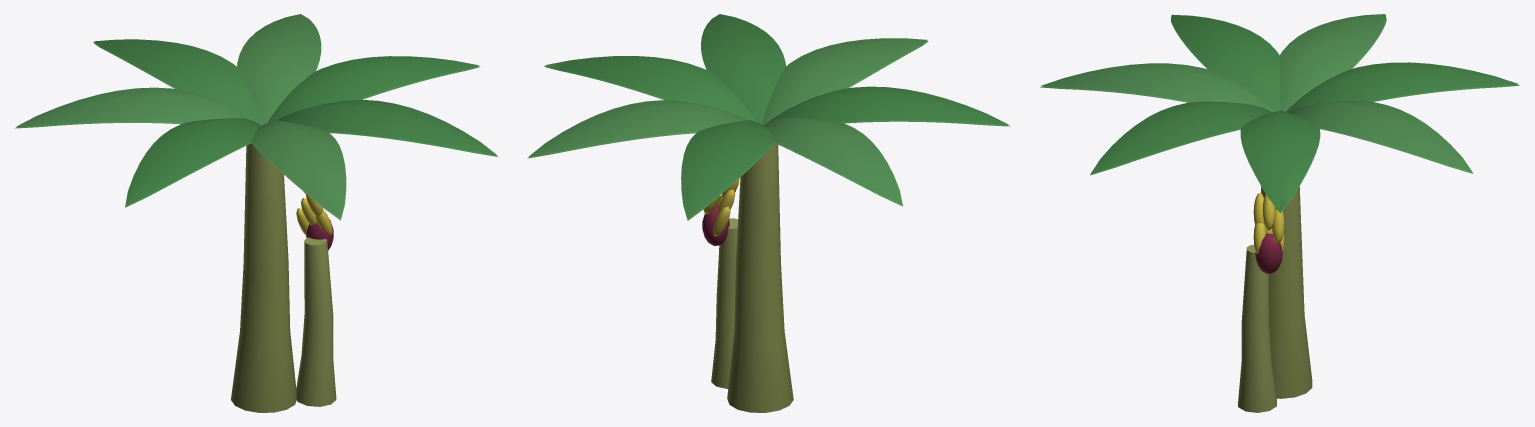
The model's file is tree-banana-hd.glb.
3 views of the same model, side by side, from view 1: azimuth 30°, elevation 25°; view 2: azimuth 150°, elevation 25°; view 3: azimuth 270°, elevation 25° (orthographic).
Parts seen in each view (by area): view 1: tree-banana-hd; view 2: tree-banana-hd; view 3: tree-banana-hd.
Boxes of the visible parts, <box> form: tree-banana-hd: <box>14,14,497,412</box>; tree-banana-hd: <box>527,14,1010,412</box>; tree-banana-hd: <box>1040,14,1519,412</box>.
Bounding box in the file's own units: 4.12 × 2.94 × 4.22.
